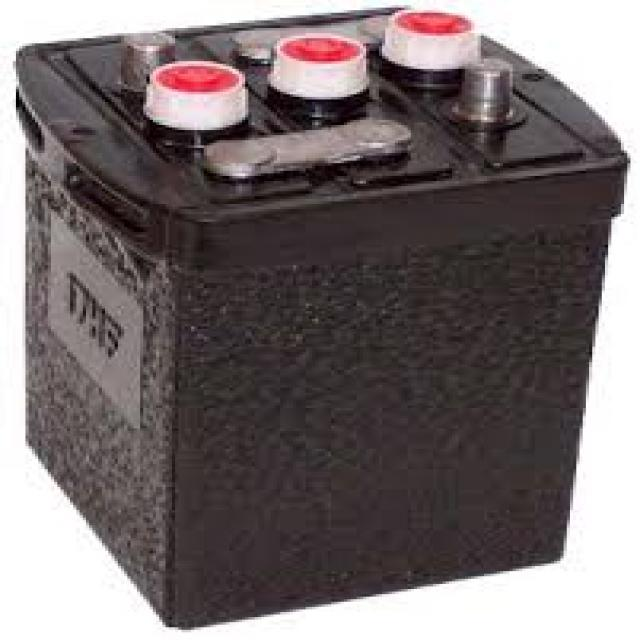non-organic waste: (13, 6, 625, 630)
